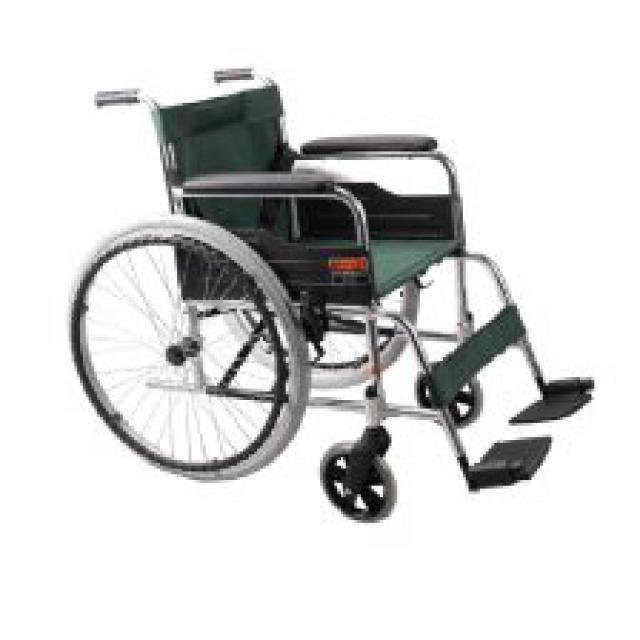wheelchairs: (69, 69, 593, 525)
